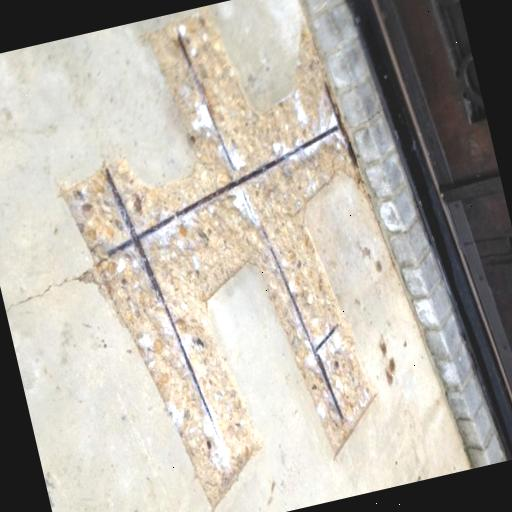spalling: (64, 15, 376, 504)
